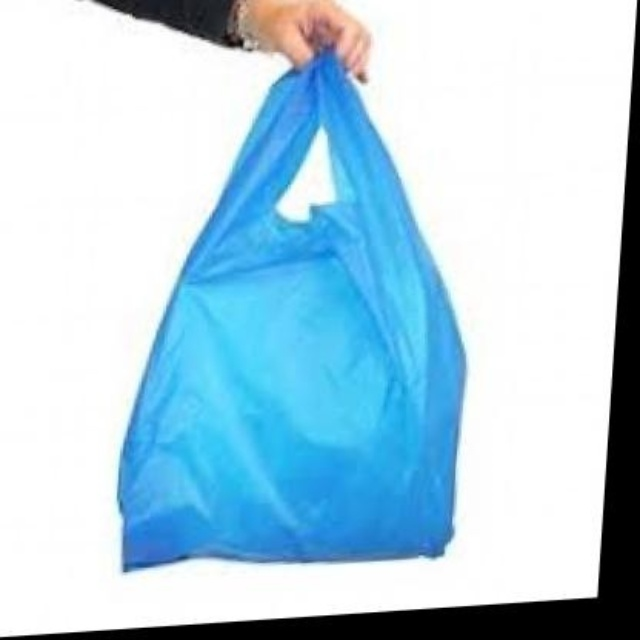trash: (118, 52, 463, 566)
